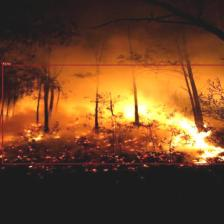fire: (1, 64, 224, 164)
